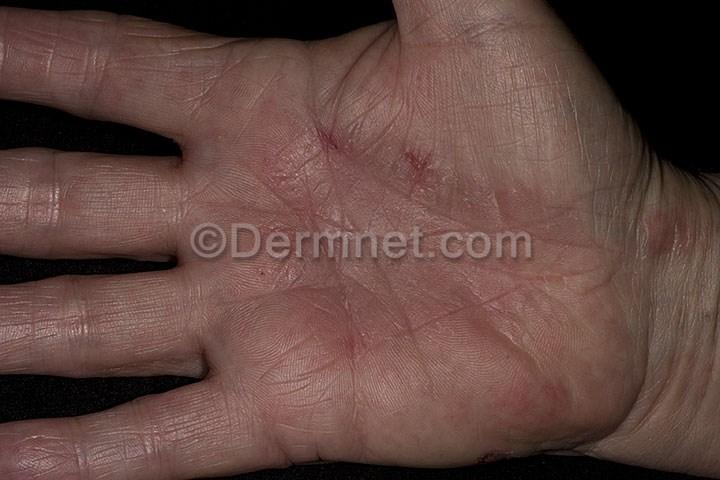Eczema: (617, 186, 716, 260), (388, 138, 469, 205), (322, 298, 392, 368), (526, 364, 600, 405), (298, 117, 354, 169)
